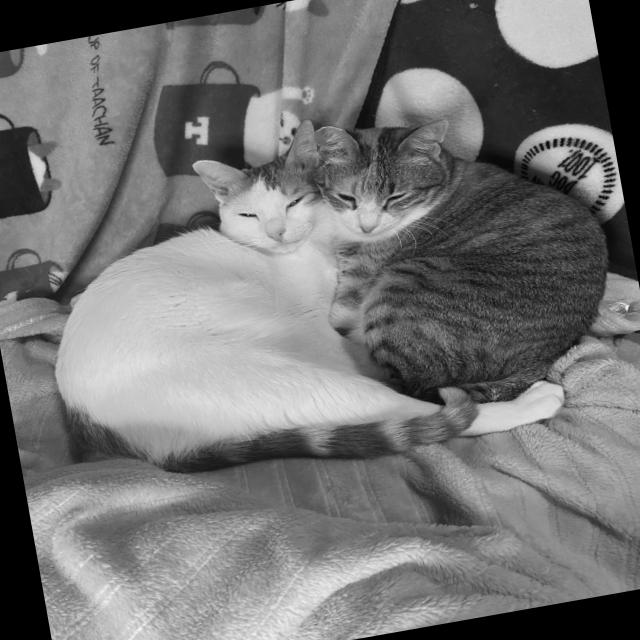cat1: (5, 85, 574, 511)
cat2: (306, 74, 638, 423)
